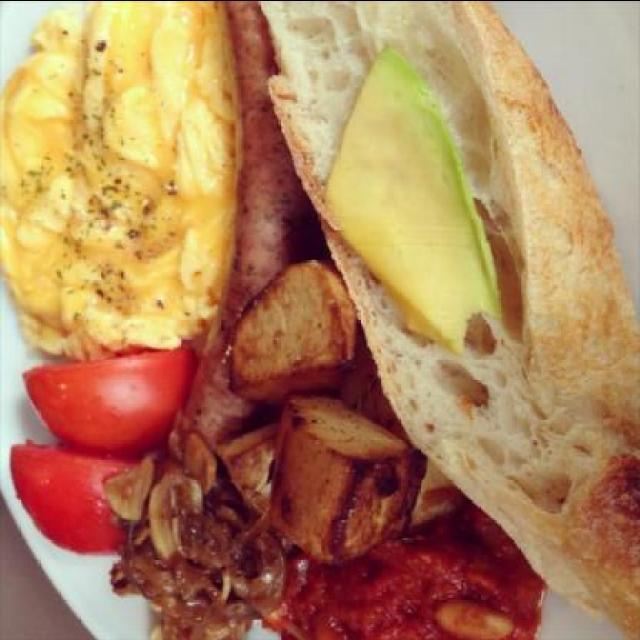Sandwich: (1, 2, 638, 640)
